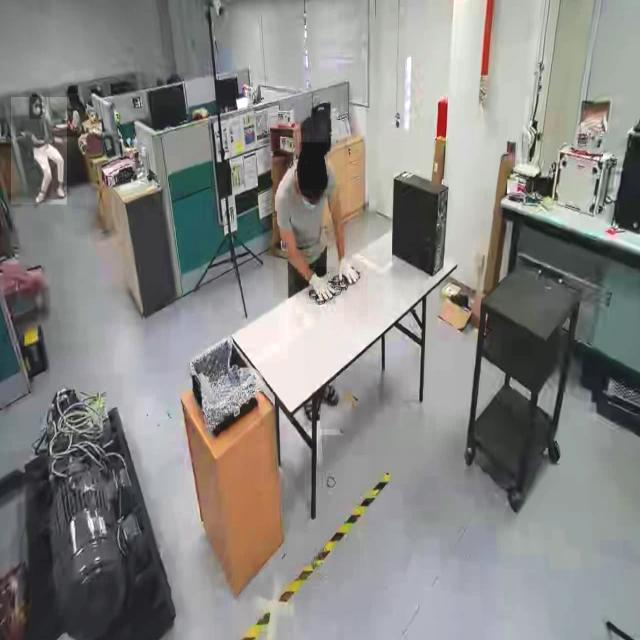face_mask: (30, 97, 42, 119)
hand_glove: (306, 267, 336, 305), (339, 262, 357, 291)
head_nohelmet: (299, 142, 327, 190), (30, 90, 42, 100), (67, 86, 78, 94)
person: (272, 138, 348, 298), (11, 97, 67, 205)
